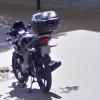Motorcycle: (4, 9, 62, 98)
